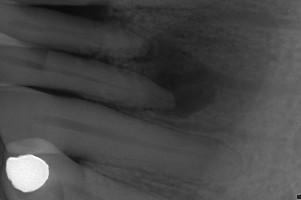Furcation Involvement: (128, 34, 216, 117)
